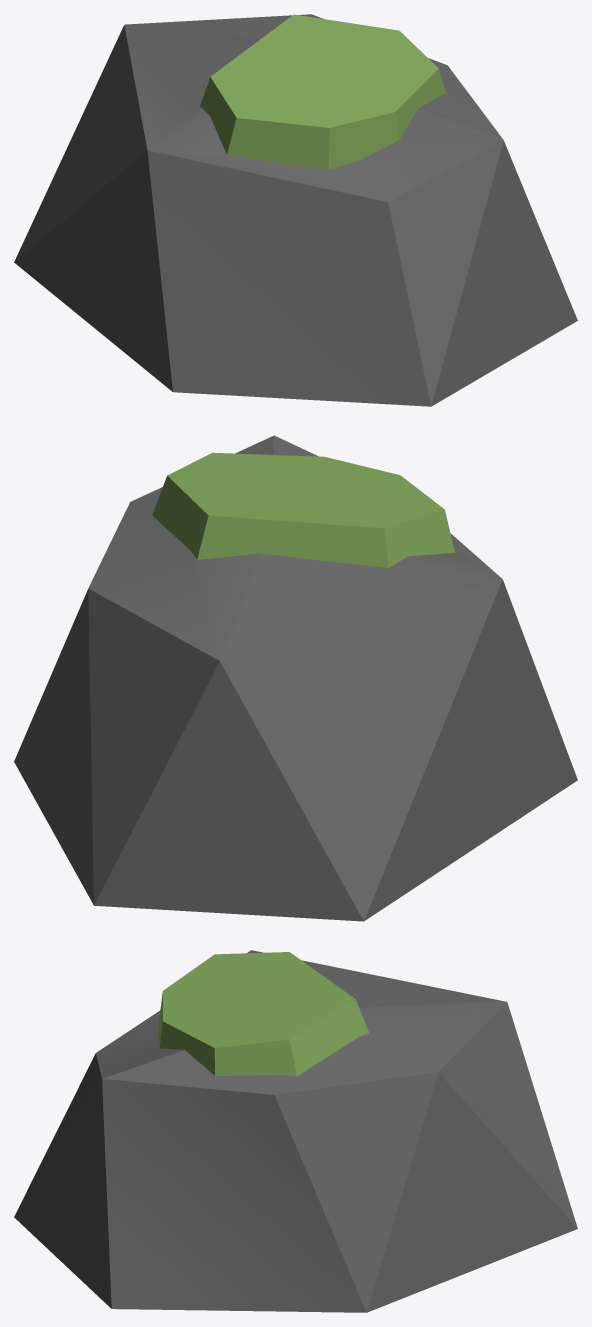
The model's file is Rock_Small_Moss_02.fbx.
The picture shows the model from 3 angles, top to bottom: view 1: azimuth 30°, elevation 25°; view 2: azimuth 150°, elevation 25°; view 3: azimuth 270°, elevation 25°; orthographic projection. The views are drawn at different scales.
Parts seen in each view (by area): view 1: Rock_Small_Moss_02; view 2: Rock_Small_Moss_02; view 3: Rock_Small_Moss_02.
Part boxes in pixels (x1=…): Rock_Small_Moss_02: x1=14, y1=14, x2=577, y2=406; Rock_Small_Moss_02: x1=14, y1=435, x2=577, y2=921; Rock_Small_Moss_02: x1=14, y1=950, x2=577, y2=1312.
Size of the model in its own units: 16.27 by 12.42 by 21.73.
